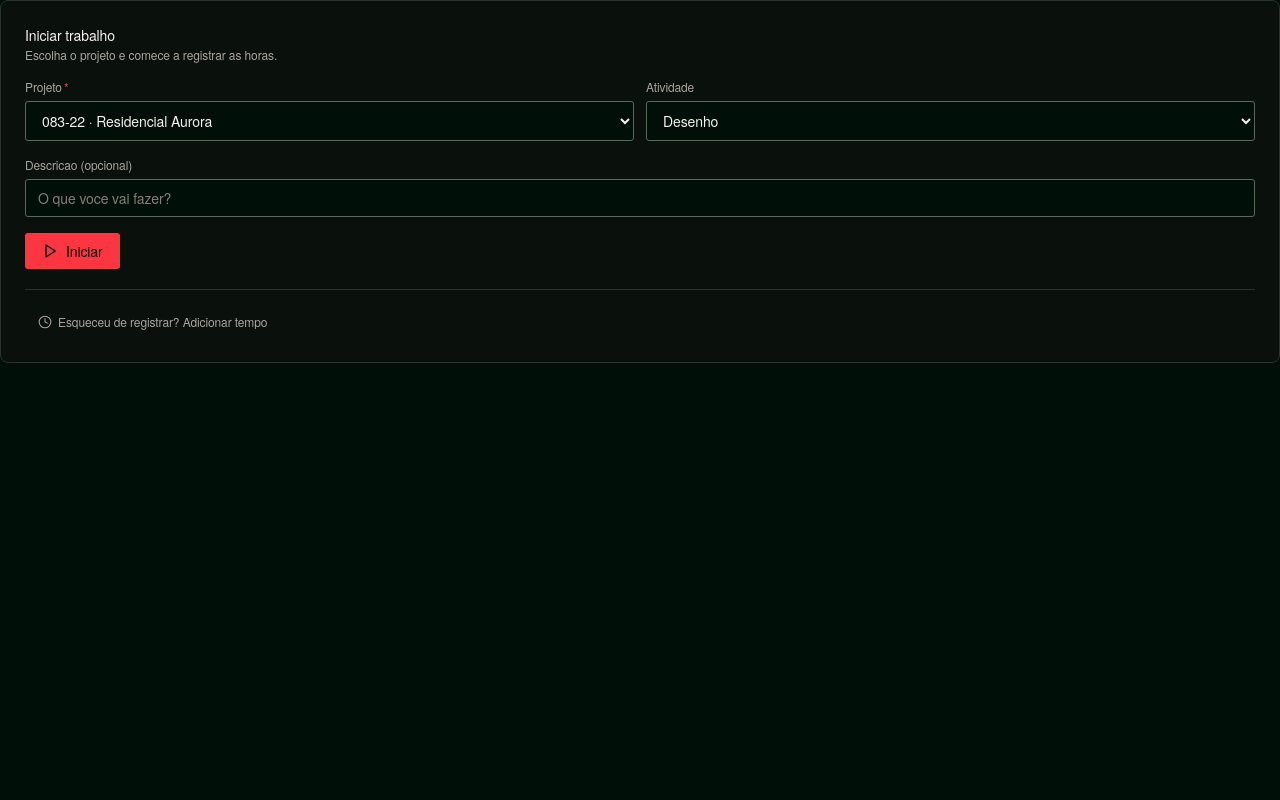
Test case: TimerPanel — tempo esquecido › oferece adicionar tempo esquecido quando nao ha cronometro ativo
Click the button "Esqueceu de registrar? Adicionar tempo": click(153, 322) x1=25 y1=306 x2=280 y2=338
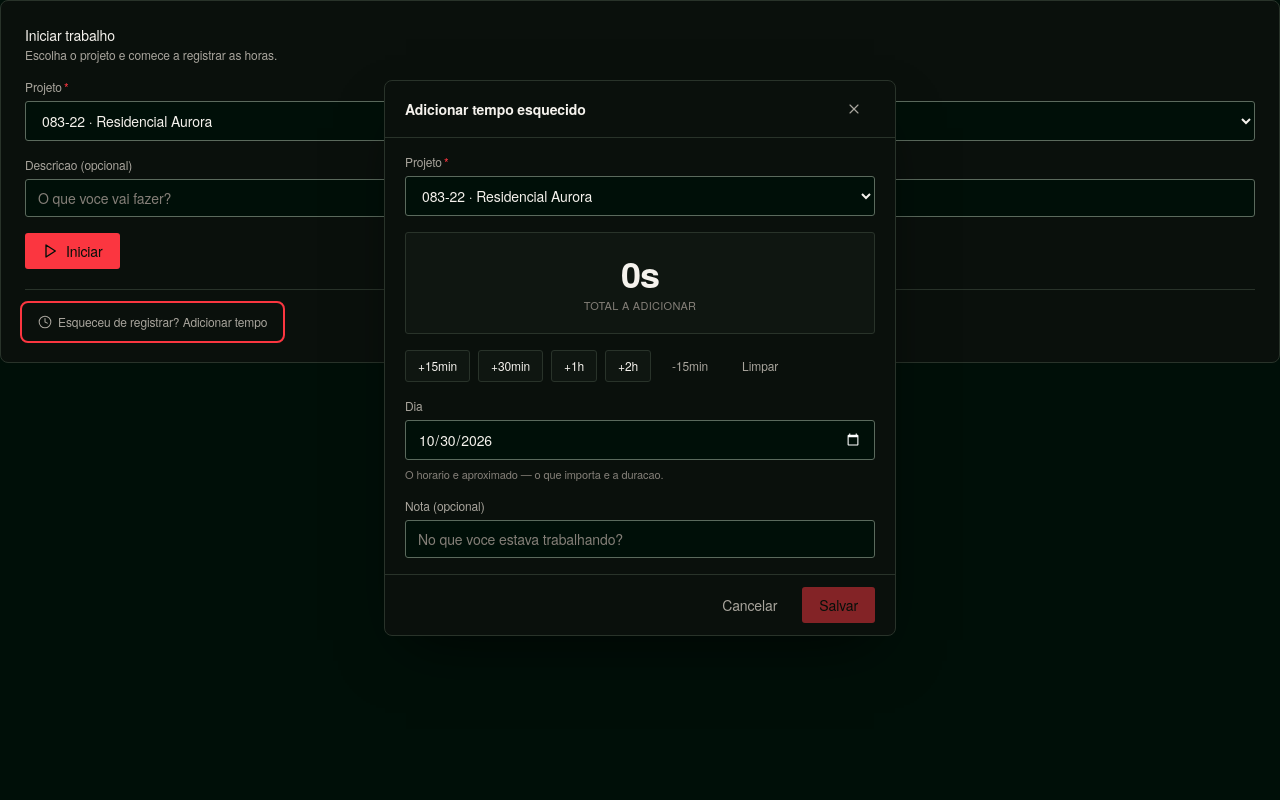
Check: the dialog "Adicionar tempo esquecido" is shown, box x1=384 y1=80 x2=896 y2=636
